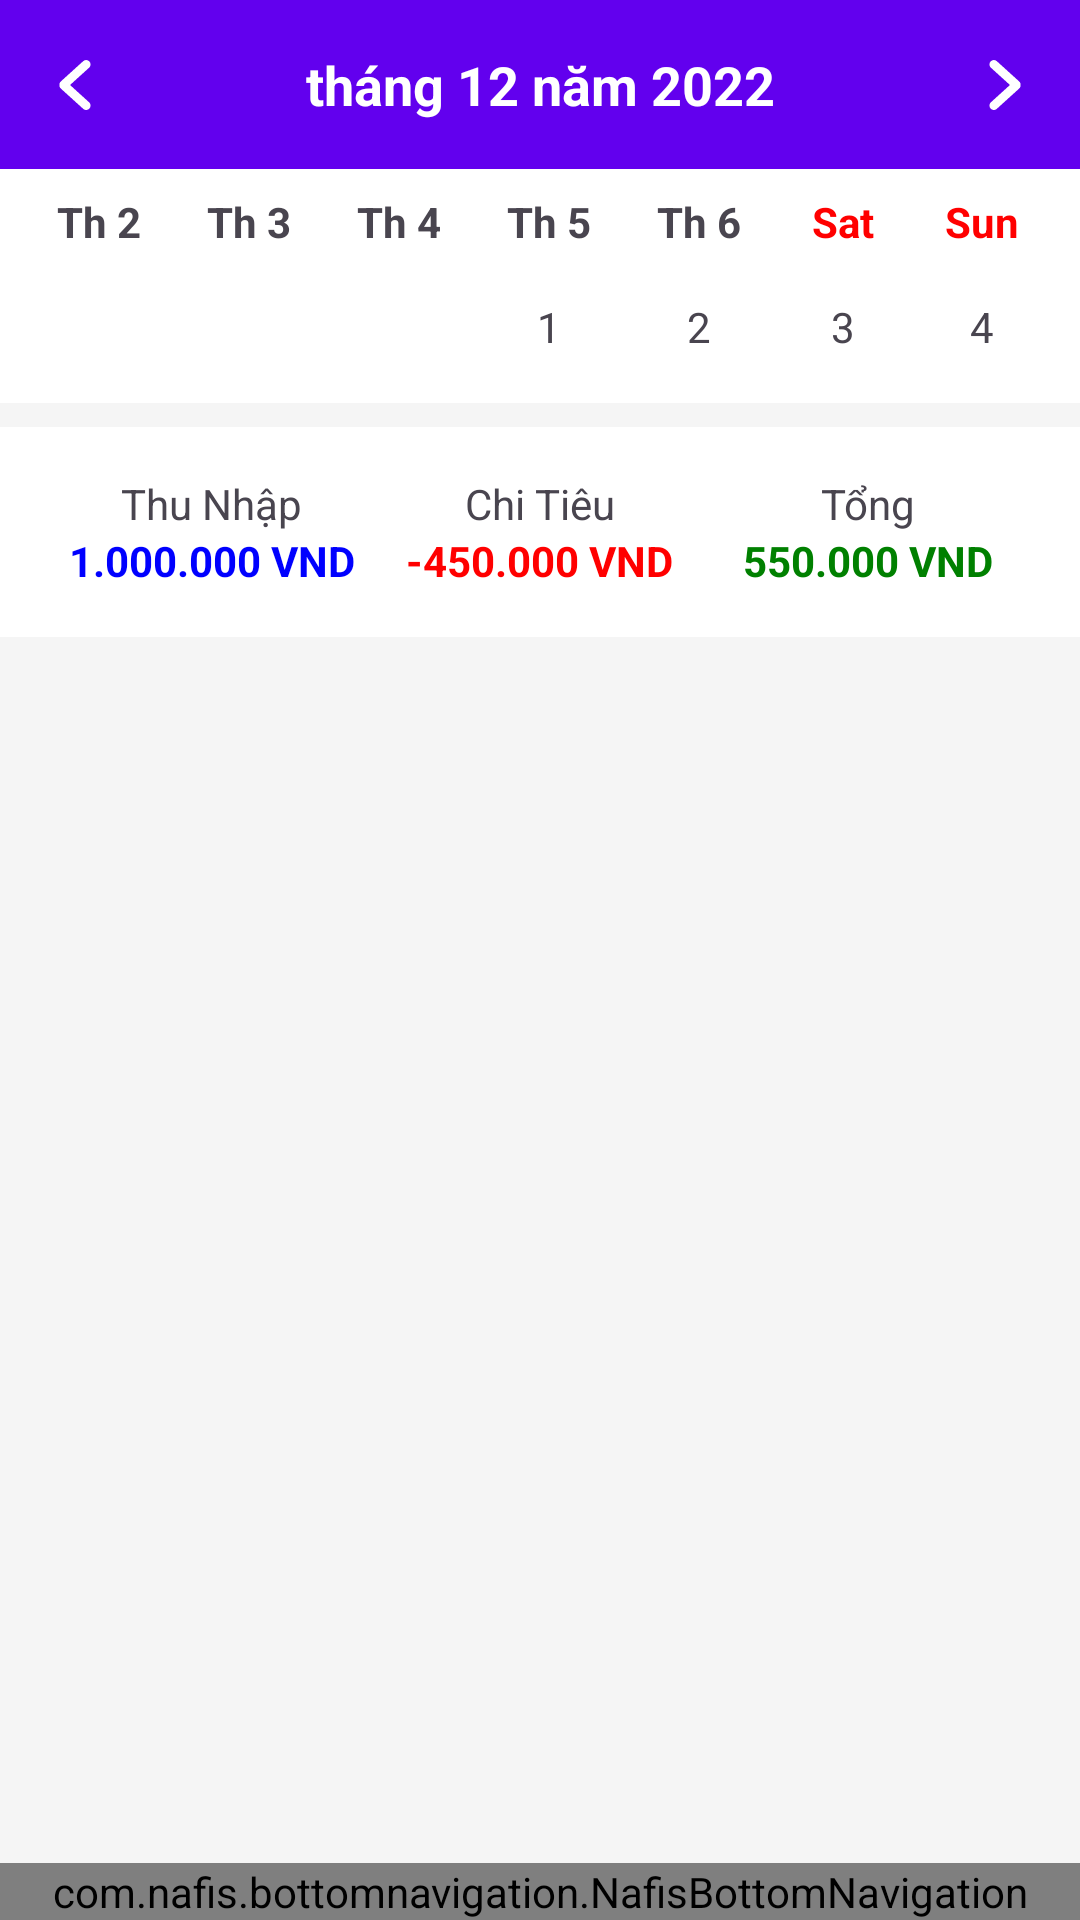

Screen size 1080×1920. Icon name, then its box in pixels as (x1, y1, x2, y2):
Tháng sau: (989, 60, 1021, 110)
Tháng trước: (59, 60, 91, 110)
